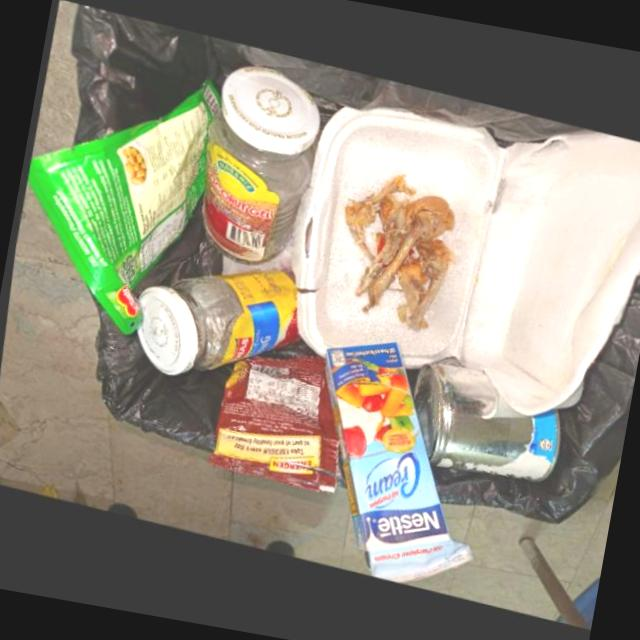bao_bi_thuc_pham: (24, 78, 219, 335)
chai_thuy_tinh: (199, 65, 318, 265), (132, 271, 297, 375)
goi_nhua_nho: (203, 355, 333, 492)
nhom: (408, 363, 556, 481)
thuc_an_thua: (341, 174, 453, 330)
vo_hop_sua: (320, 340, 468, 581)
xop: (288, 105, 640, 415)
